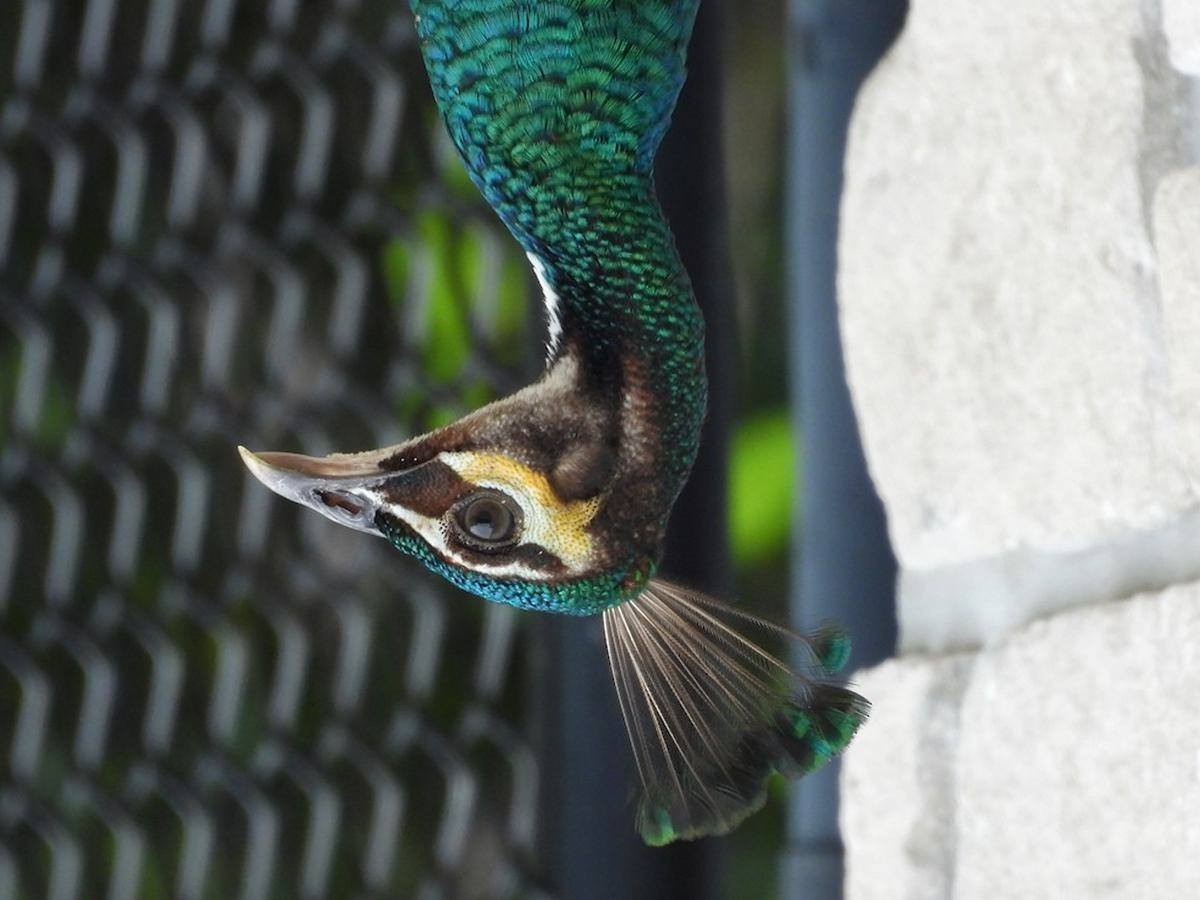peacock: (289, 1, 861, 852)
